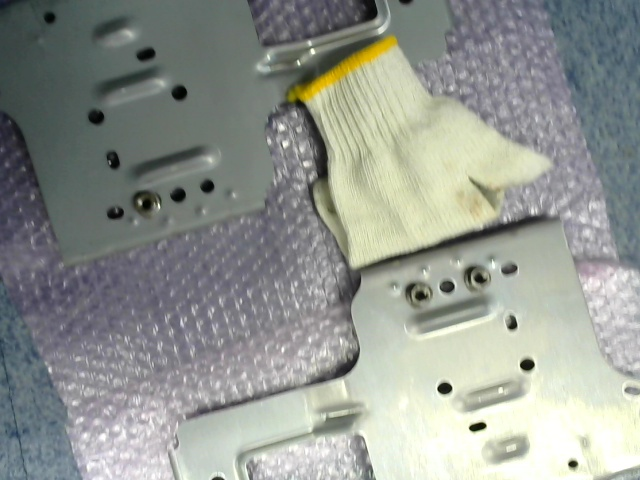dog: (131, 190, 162, 219), (463, 264, 492, 295), (405, 280, 434, 310)
